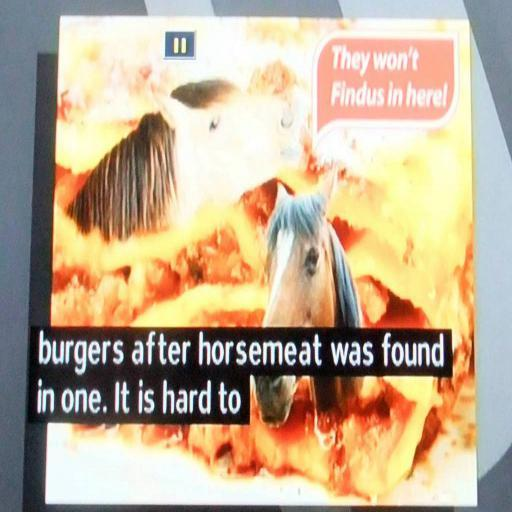Horse: (53, 72, 298, 244), (251, 161, 363, 448)
